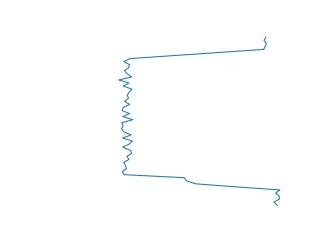distributaryChannelFill: (114, 37, 288, 206)
